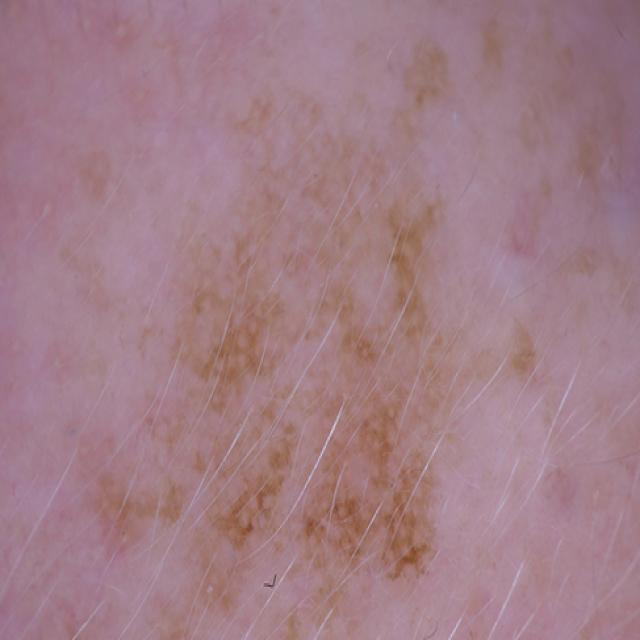Keratosis: (69, 167, 578, 618)
